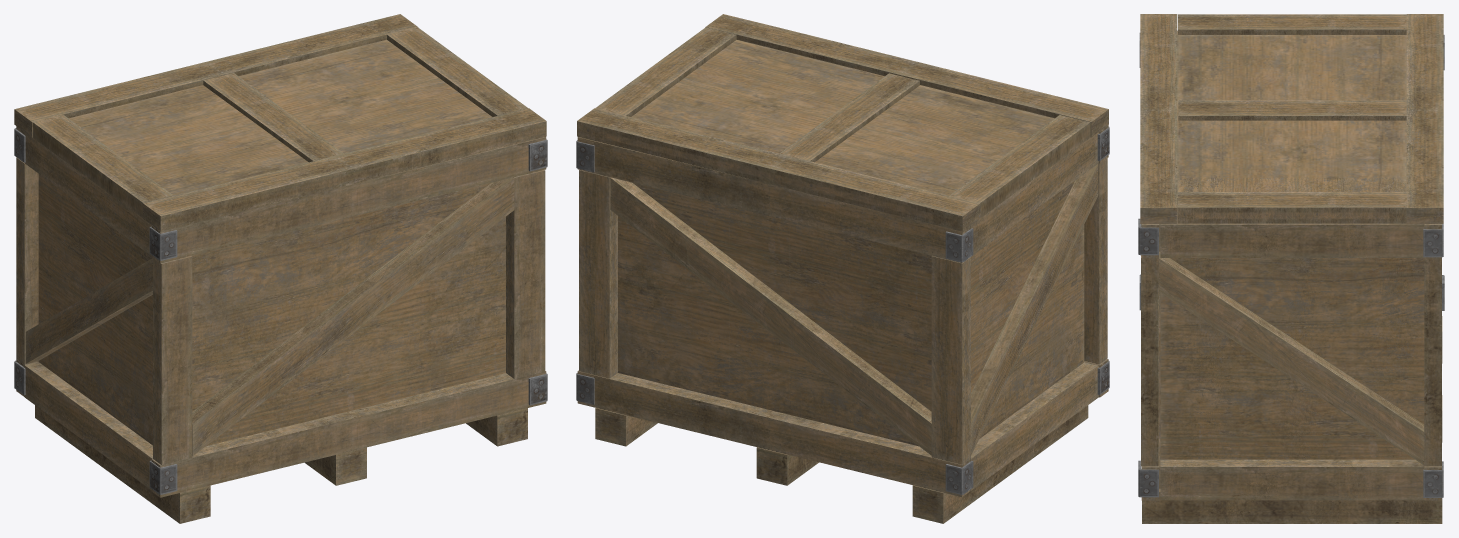
File: ammo_crate.glb
3 renders of one model, left to right at view 1: azimuth 30°, elevation 25°; view 2: azimuth 150°, elevation 25°; view 3: azimuth 270°, elevation 25°, orthographic. The views are drawn at different scales.
Parts seen in each view (by area): view 1: AmmunitionCrate; view 2: AmmunitionCrate; view 3: AmmunitionCrate.
Boxes of the visible parts, x1,y1,x2,y2 form: AmmunitionCrate: (14, 14, 547, 523); AmmunitionCrate: (576, 14, 1109, 523); AmmunitionCrate: (1138, 14, 1444, 523).
Bounding box in the file's own units: 0.468 × 0.3617 × 0.3086.
Materials: 1 (1 with a texture image).
